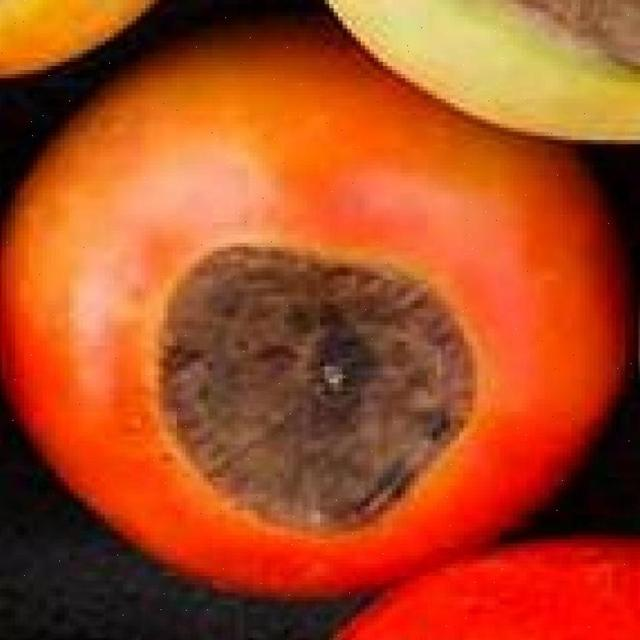Blossom End Rot Fruit: (97, 28, 378, 259)
